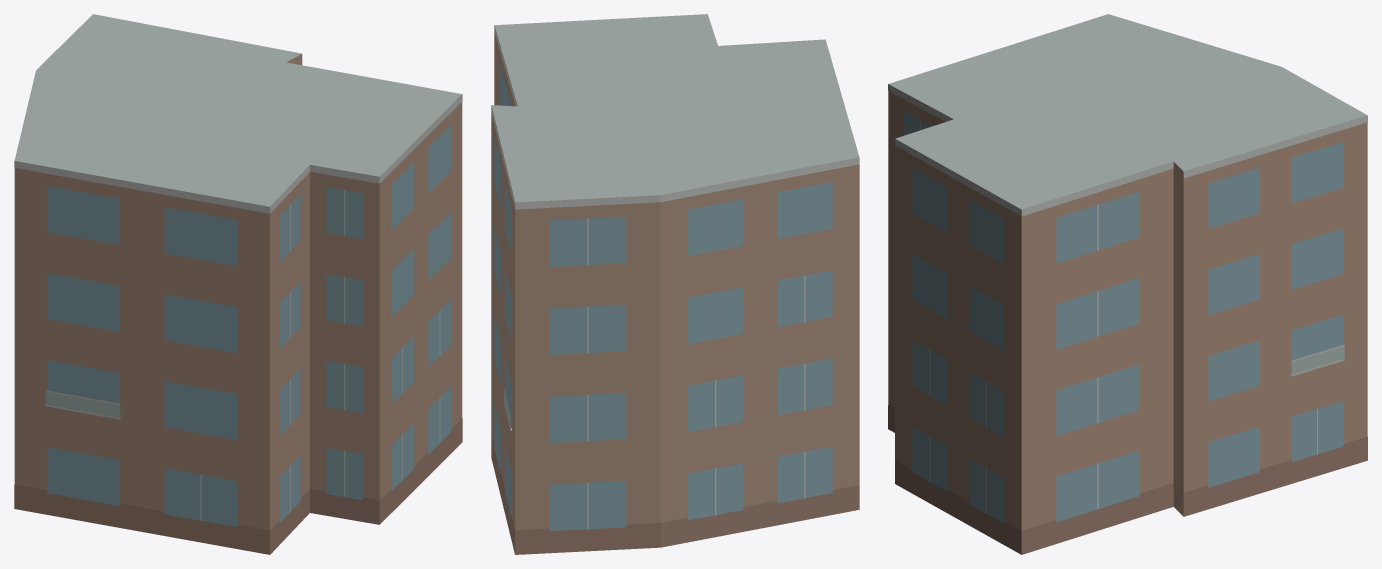
Rendered from survey-upis-32917811.glb.
3 renders of one model, left to right at view 1: azimuth 30°, elevation 25°; view 2: azimuth 150°, elevation 25°; view 3: azimuth 270°, elevation 25°, orthographic. The views are drawn at different scales.
Visible parts, largest first — view 1: survey-upis-32917811.tmp; view 2: survey-upis-32917811.tmp; view 3: survey-upis-32917811.tmp.
Part boxes in pixels (bbox=[...]): survey-upis-32917811.tmp: bbox=[14, 14, 462, 554]; survey-upis-32917811.tmp: bbox=[491, 14, 859, 554]; survey-upis-32917811.tmp: bbox=[888, 14, 1367, 554].
Size of the model in its own units: 14.84 by 12.2 by 15.37.
